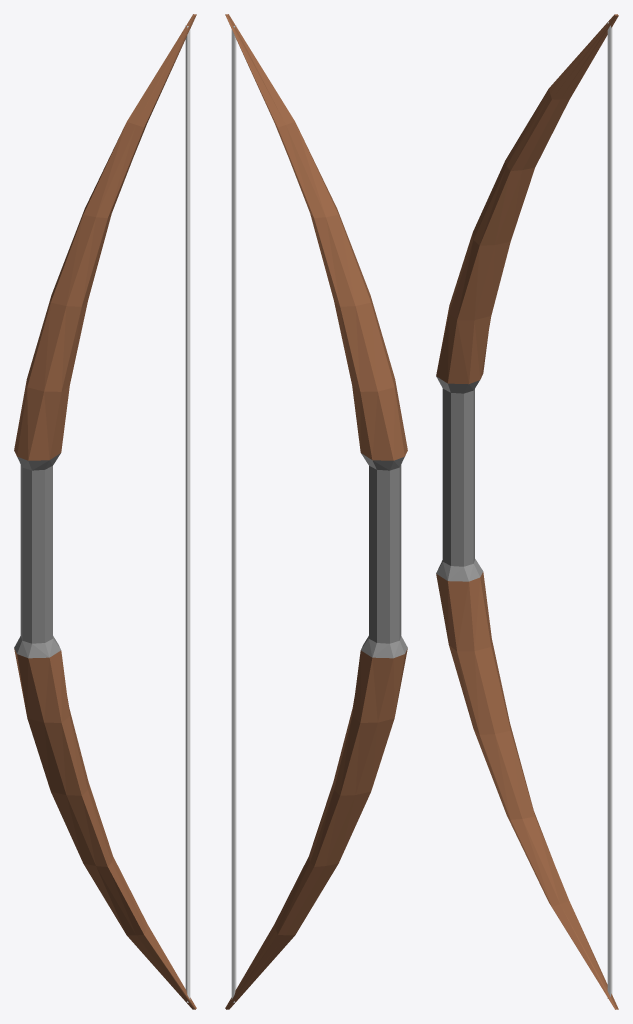
The model's file is Bow.glb.
The picture shows the model from 3 angles, left to right: view 1: azimuth 30°, elevation 25°; view 2: azimuth 150°, elevation 25°; view 3: azimuth 330°, elevation 25°; orthographic projection.
Parts seen in each view (by area): view 1: Bow_01_Cube.013; view 2: Bow_01_Cube.013; view 3: Bow_01_Cube.013.
Part boxes in pixels (box(x1,y1,x2,y2)): Bow_01_Cube.013: box(14, 14, 196, 1009); Bow_01_Cube.013: box(225, 14, 407, 1009); Bow_01_Cube.013: box(436, 14, 618, 1009).
Bounding box in the file's own units: 0.902 × 4.76 × 0.2301.
